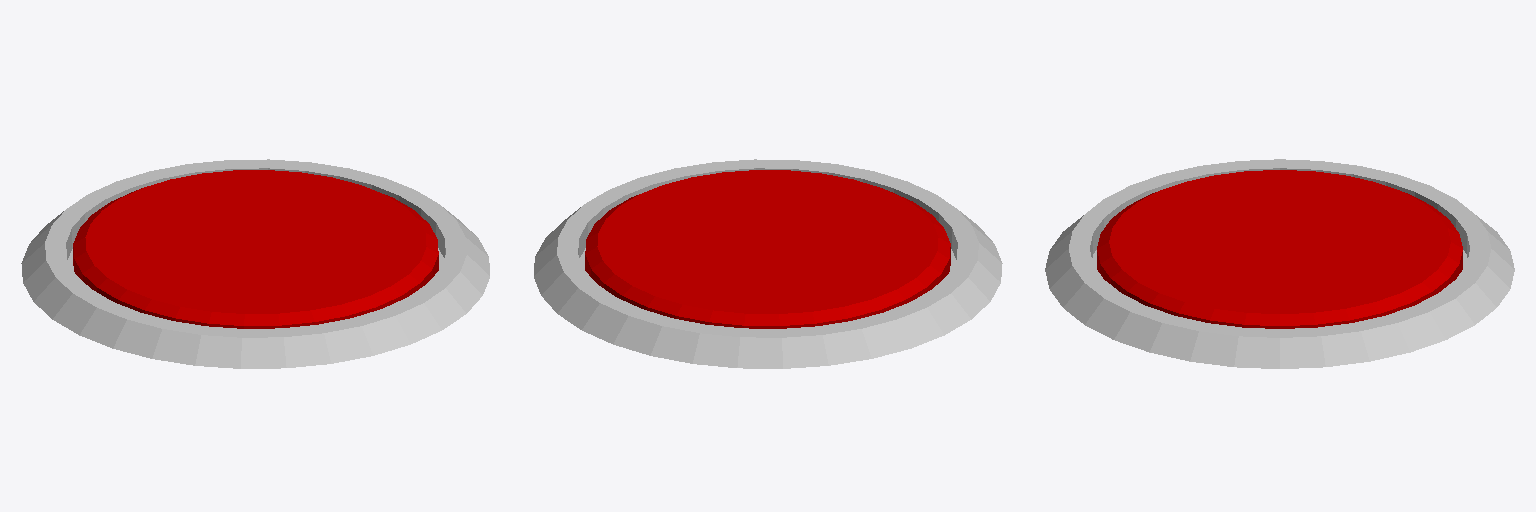
Rendered from button.obj.
The picture shows the model from 3 angles: view 1: azimuth 30°, elevation 25°; view 2: azimuth 150°, elevation 25°; view 3: azimuth 270°, elevation 25°; orthographic projection.
Parts seen in each view (by area): view 1: Circle.001, Circle; view 2: Circle.001, Circle; view 3: Circle.001, Circle.
Part boxes in pixels (left/top/right/bottom): Circle.001: left=73, top=170, right=438, bottom=328; Circle: left=21, top=159, right=489, bottom=368; Circle.001: left=585, top=170, right=950, bottom=328; Circle: left=534, top=159, right=1002, bottom=368; Circle.001: left=1097, top=170, right=1462, bottom=328; Circle: left=1045, top=159, right=1514, bottom=368.
Size of the model in its own units: 8 by 0.5241 by 8.